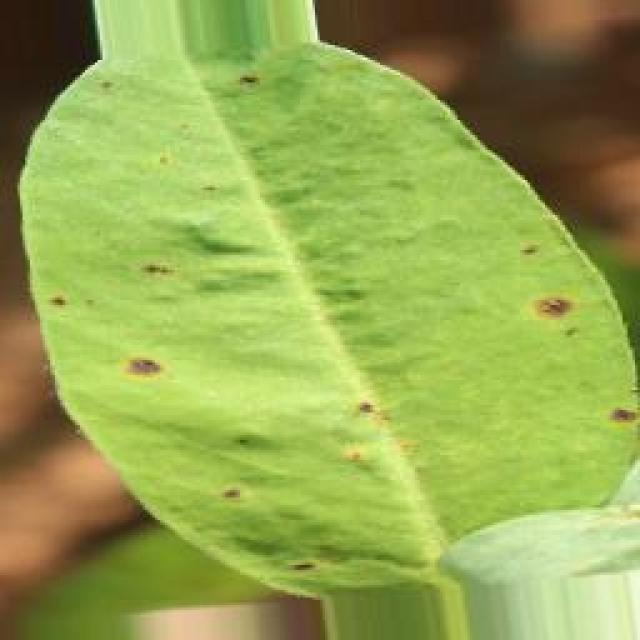Sigatoka: (496, 217, 574, 352), (323, 370, 407, 458), (121, 89, 185, 186), (101, 326, 179, 396), (572, 359, 640, 437), (202, 52, 276, 118), (190, 478, 274, 532), (35, 285, 103, 347), (269, 535, 334, 597), (130, 252, 180, 308)
